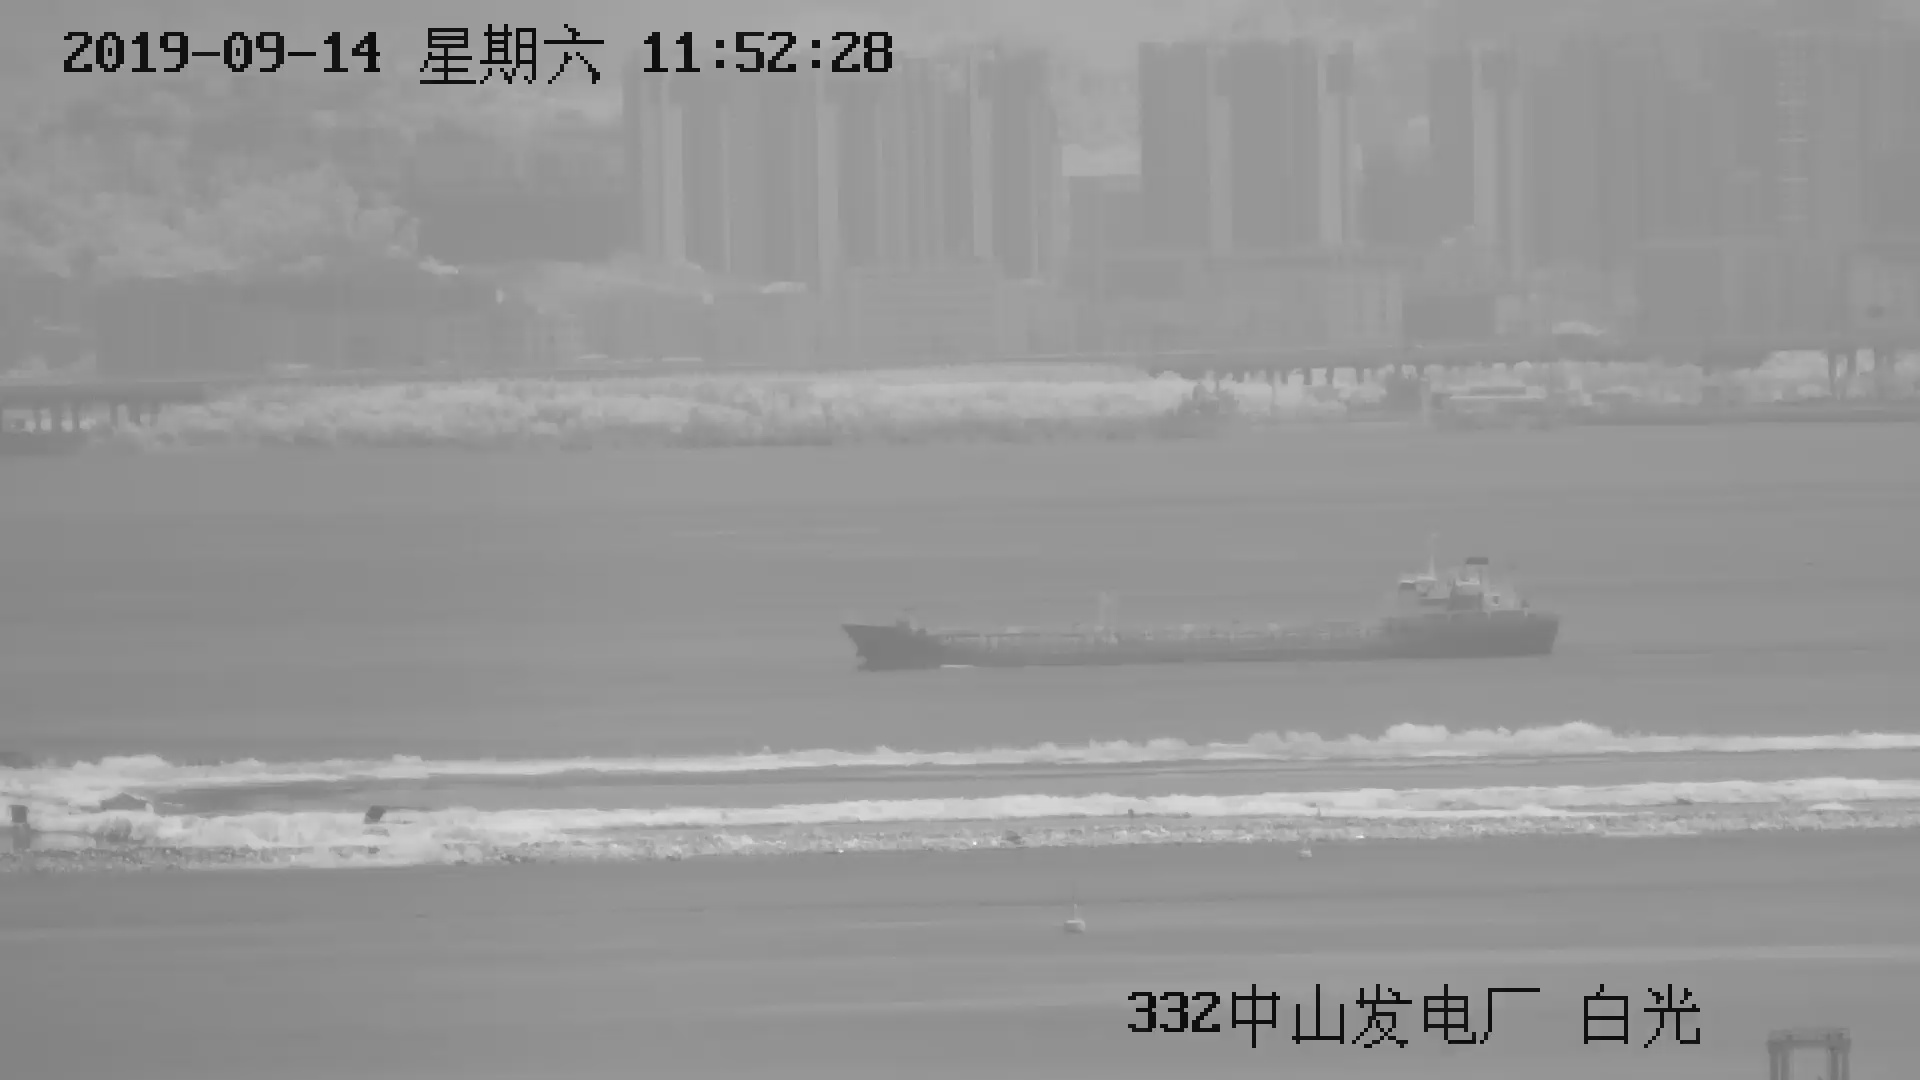ship: (839, 534, 1557, 674)
